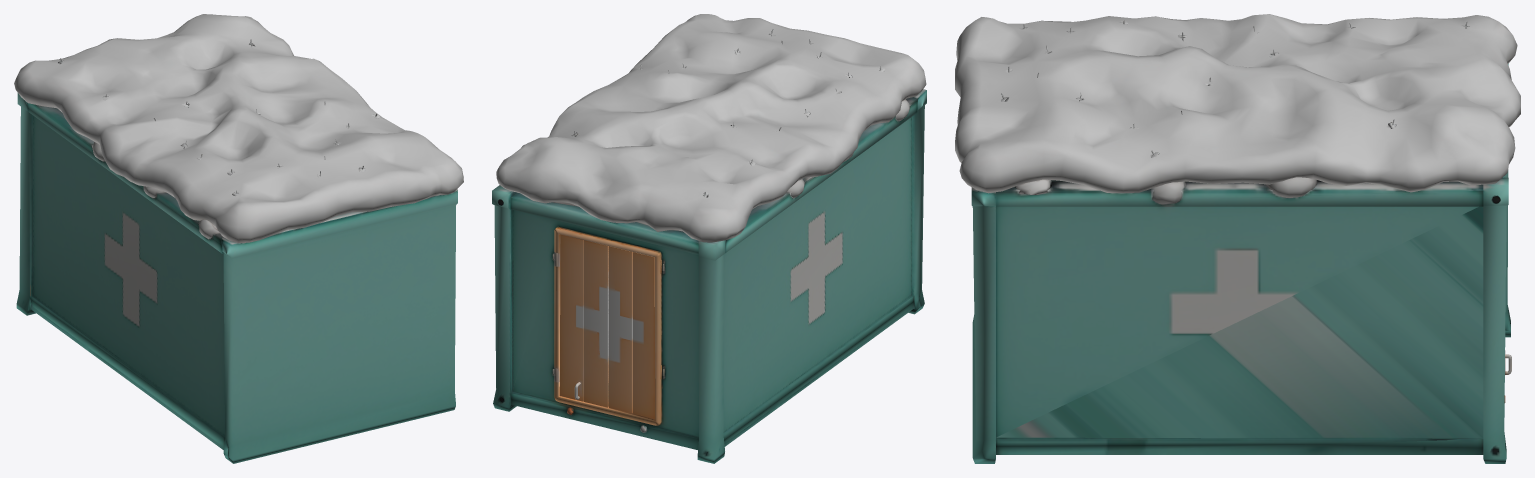
3 renders of one model, left to right at view 1: azimuth 30°, elevation 25°; view 2: azimuth 150°, elevation 25°; view 3: azimuth 270°, elevation 25°, orthographic. The views are drawn at different scales.
Visible parts, largest first — view 1: tripo_node_c40a5a7f; view 2: tripo_node_c40a5a7f; view 3: tripo_node_c40a5a7f.
Part boxes in pixels (left/top/right/bottom): tripo_node_c40a5a7f: left=14, top=14, right=463, bottom=463; tripo_node_c40a5a7f: left=492, top=14, right=926, bottom=463; tripo_node_c40a5a7f: left=955, top=14, right=1520, bottom=463.
Bounding box in the file's own units: 0.6465 × 0.6543 × 0.998.
Materials: 1 (1 with a texture image).
